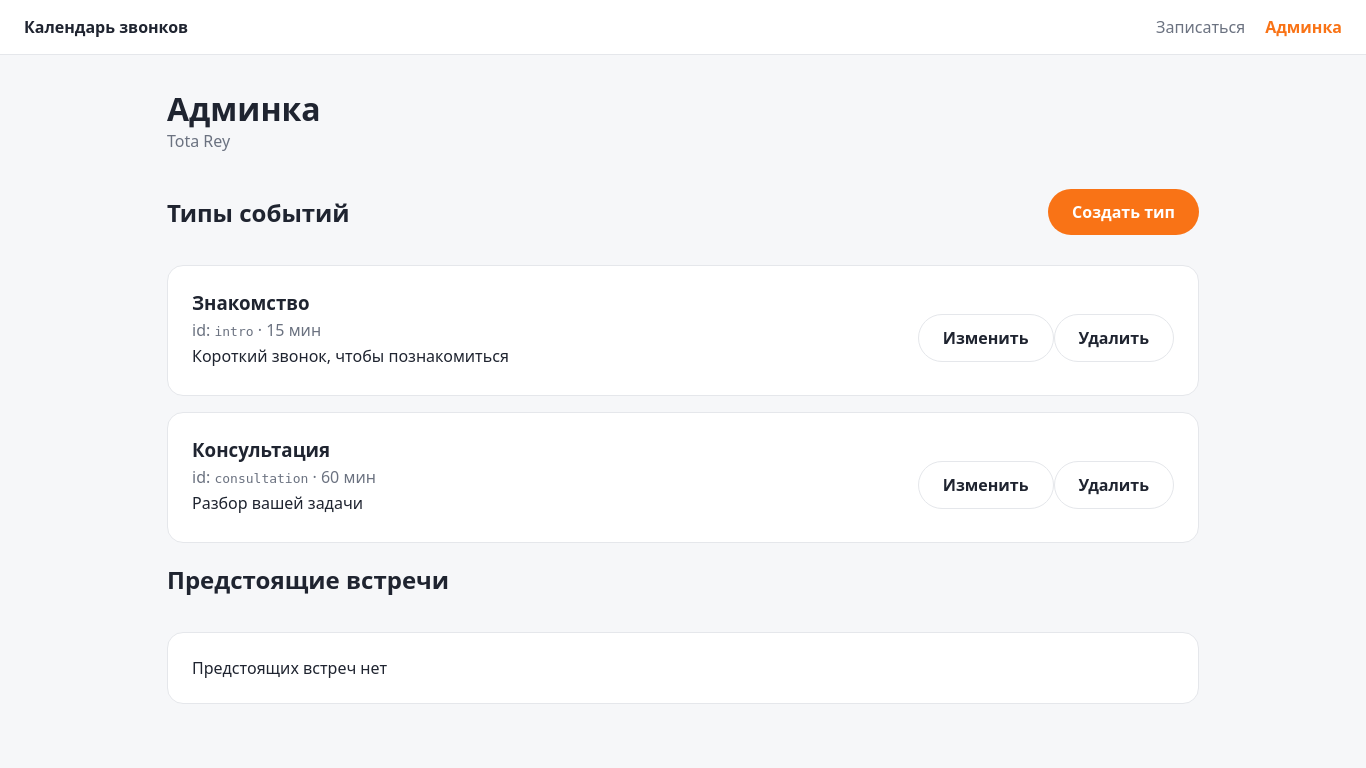
admin event types › edits a type without changing its id
Click the button with aria-label "Изменить Консультация". click: (986, 485)
box: [918,461,1054,509]
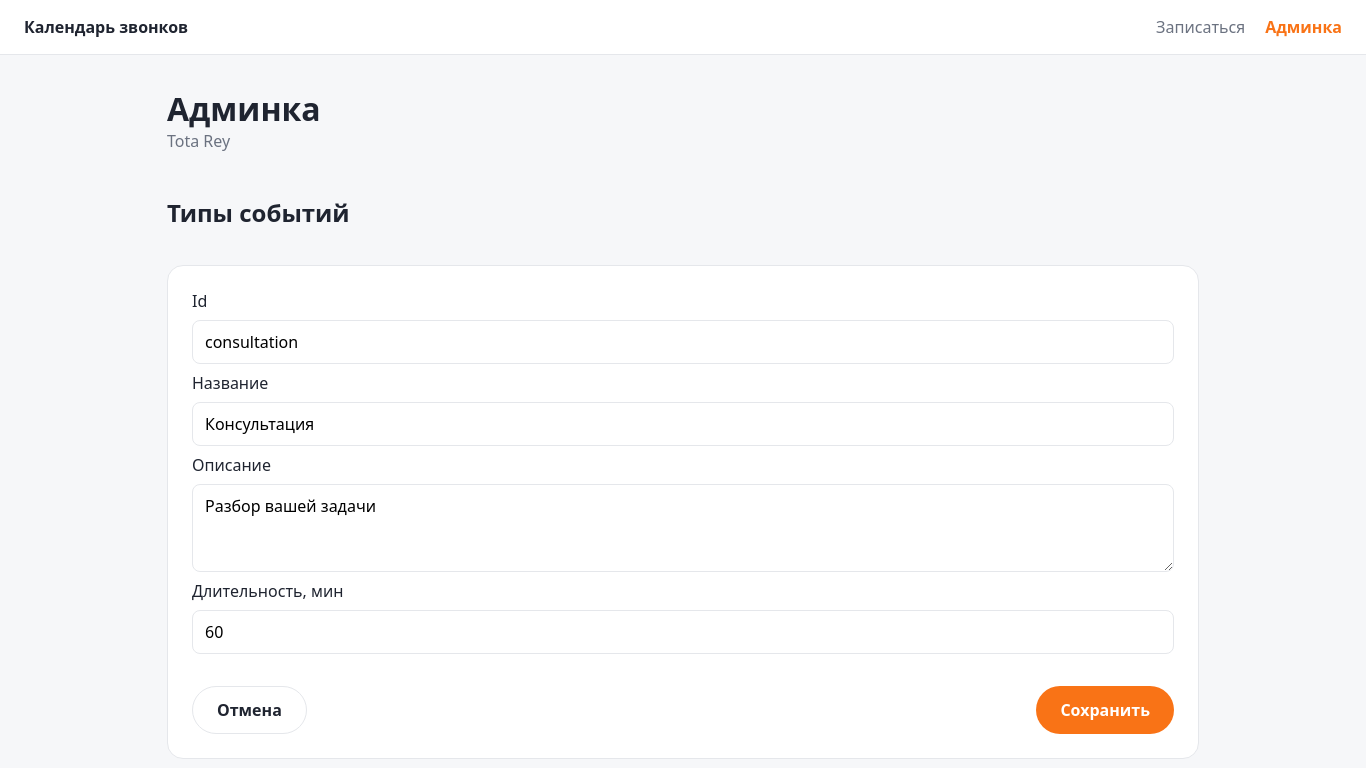
Result: the field labelled "Id" holds "consultation" at [192,320,1174,364]
Replace the text in the field labelled "Название" with "Большая консультация". click: (683, 424)
box: [192,402,1174,446]
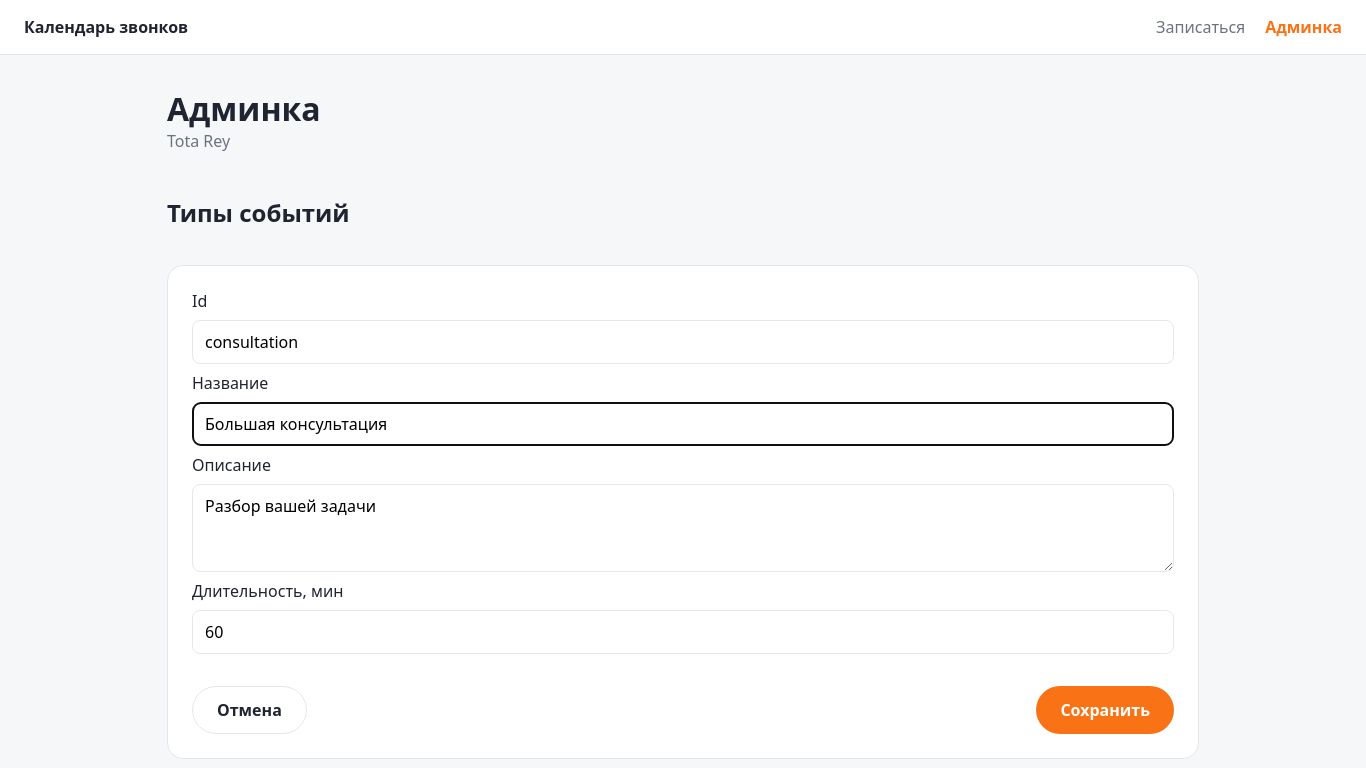
Click the button "Сохранить". click: (1105, 710)
box: [1036,686,1174,734]
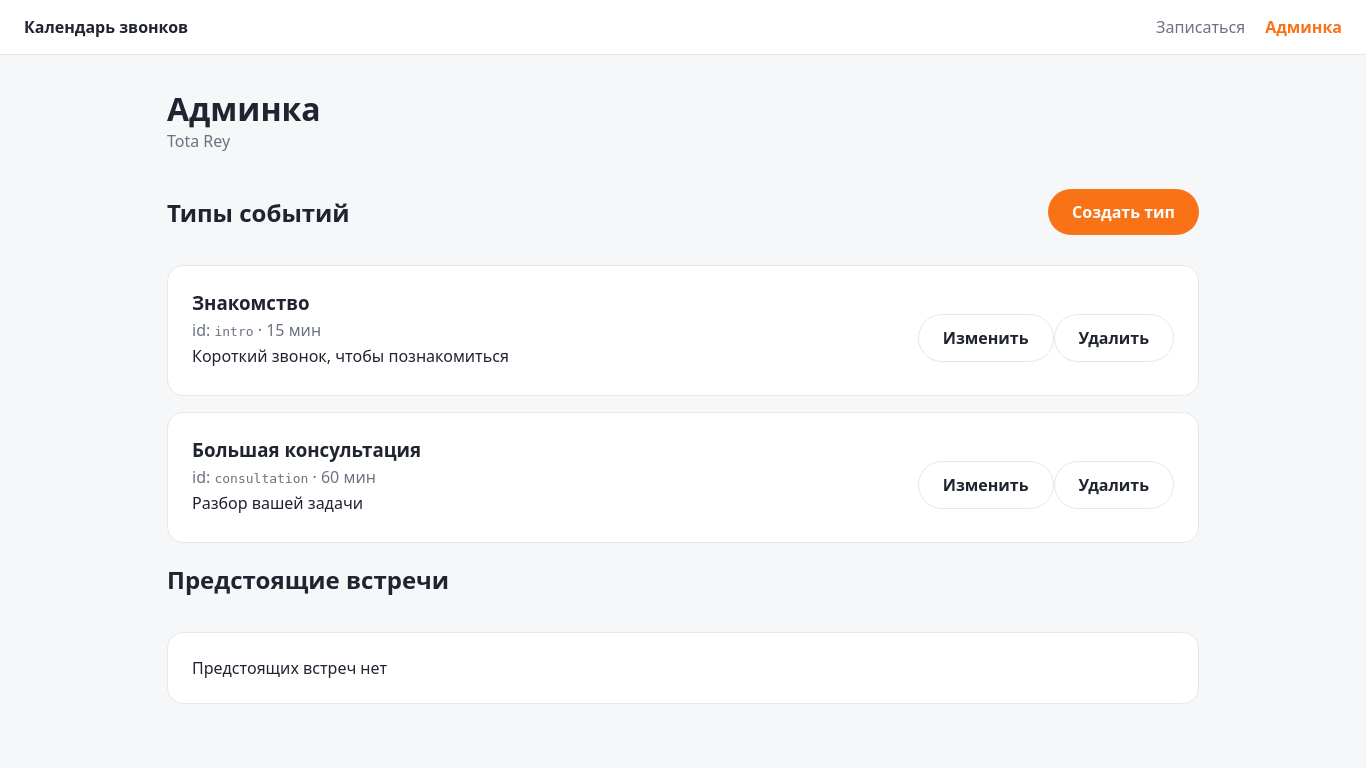
Result: the heading "Большая консультация" is shown at [192,437,421,462]
